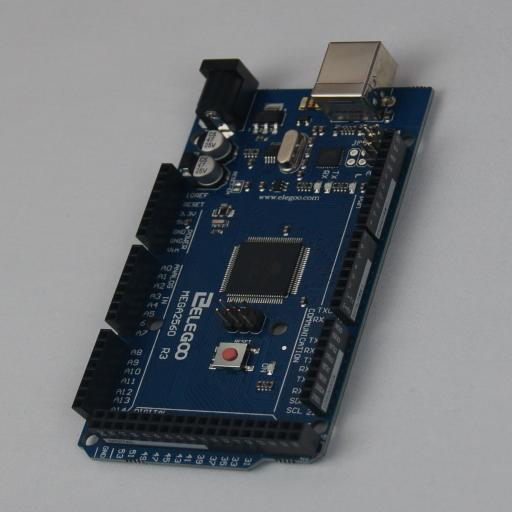Arduino Mega 2560 -Blue-: (72, 41, 434, 471)
